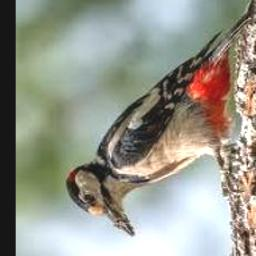Woodpecker: (66, 0, 256, 237)
